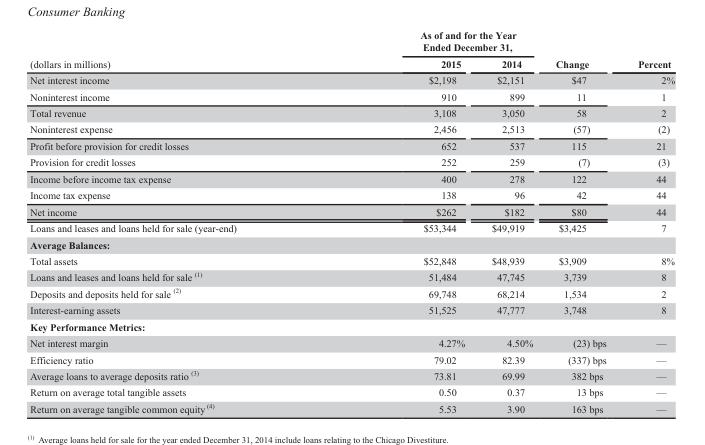table: (29, 29, 674, 414)
table column: (29, 29, 327, 414), (327, 29, 477, 414), (543, 29, 621, 414), (477, 29, 543, 414), (621, 29, 674, 414)
table column header: (29, 29, 674, 71)
table projected row header: (29, 235, 674, 252), (29, 318, 674, 334)
table row: (29, 29, 674, 55), (29, 87, 674, 104), (29, 120, 674, 137), (29, 153, 674, 170), (29, 186, 674, 203), (29, 235, 674, 252), (29, 284, 674, 301), (29, 301, 674, 318), (29, 366, 674, 383), (29, 55, 674, 71), (29, 71, 674, 87), (29, 104, 674, 120), (29, 137, 674, 153), (29, 170, 674, 186), (29, 203, 674, 219), (29, 219, 674, 235), (29, 252, 674, 268), (29, 268, 674, 284), (29, 318, 674, 334), (29, 334, 674, 350), (29, 350, 674, 366), (29, 383, 674, 399), (29, 399, 674, 414)
table spanning cell: (29, 29, 327, 71), (327, 29, 543, 55), (543, 29, 621, 71), (621, 29, 674, 71)
